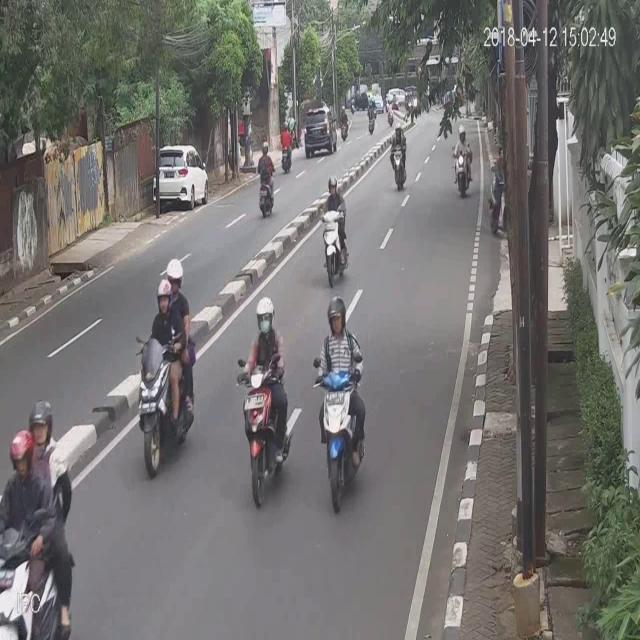bus: (134, 258, 196, 476), (312, 292, 370, 518), (238, 294, 292, 510), (322, 170, 350, 290), (253, 134, 277, 222), (449, 118, 474, 201), (388, 118, 408, 191), (281, 116, 293, 176)
motorcycle: (151, 136, 209, 214), (301, 104, 339, 157)
